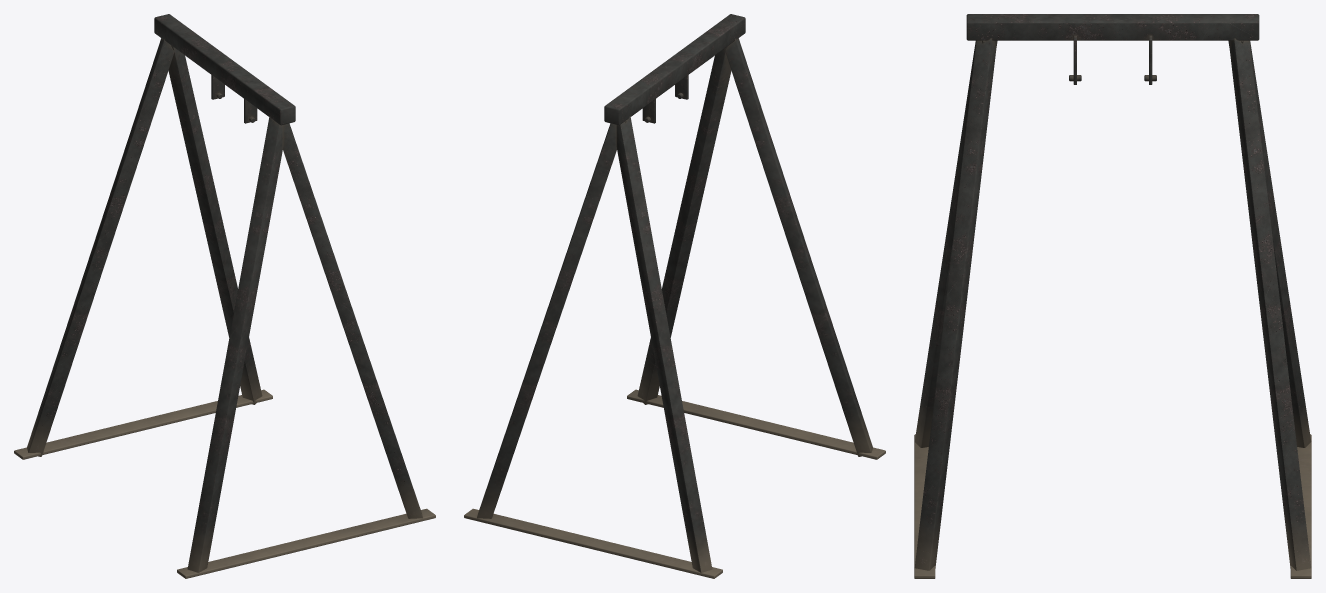
The model's file is SM_SteelTarget_Body.fbx.
The picture shows the model from 3 angles, left to right: view 1: azimuth 30°, elevation 25°; view 2: azimuth 150°, elevation 25°; view 3: azimuth 270°, elevation 25°; orthographic projection. The views are drawn at different scales.
Visible parts, largest first — view 1: SteelTarget_Body; view 2: SteelTarget_Body; view 3: SteelTarget_Body.
Boxes of the visible parts, x1=… form: SteelTarget_Body: x1=14, y1=14, x2=435, y2=578; SteelTarget_Body: x1=464, y1=14, x2=885, y2=578; SteelTarget_Body: x1=914, y1=14, x2=1311, y2=578.
Bounding box in the file's own units: 0.95 × 0.8 × 1.3.
1 material, 1 textured.
